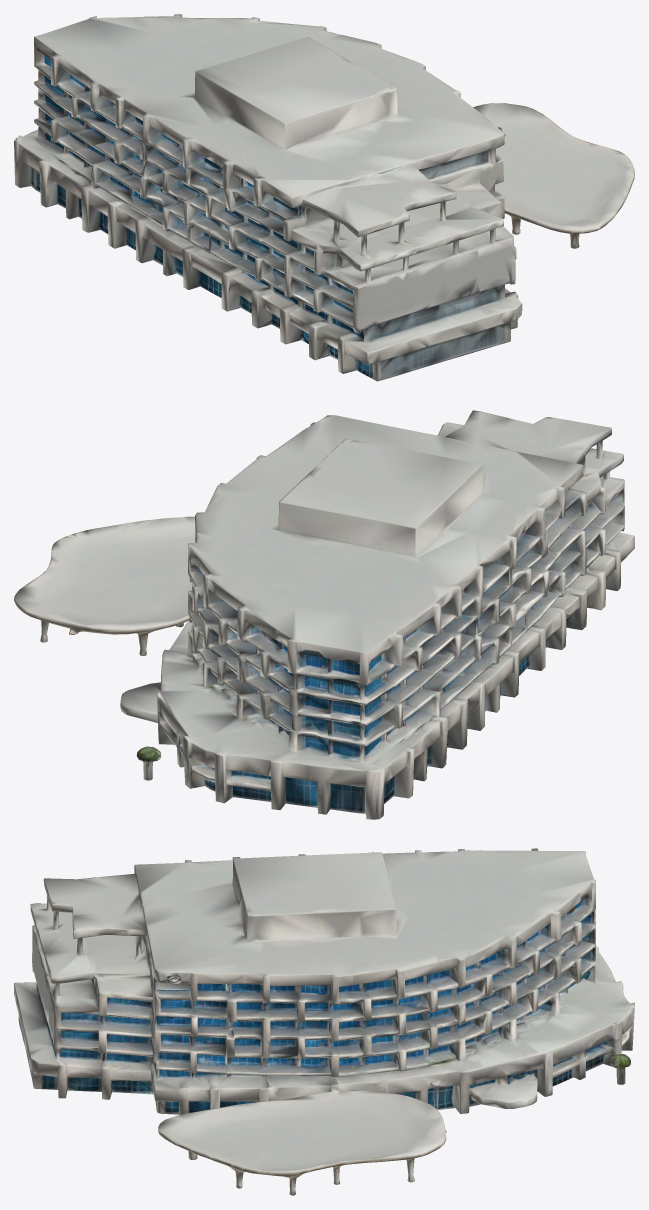
File: sofitel.glb
3 views of the same model, one above another, from view 1: azimuth 30°, elevation 25°; view 2: azimuth 150°, elevation 25°; view 3: azimuth 270°, elevation 25° (orthographic). The views are drawn at different scales.
Visible parts, largest first — view 1: tripo_node_5b8fa1ab-f364-4247-a232-32b50d5a09fc; view 2: tripo_node_5b8fa1ab-f364-4247-a232-32b50d5a09fc; view 3: tripo_node_5b8fa1ab-f364-4247-a232-32b50d5a09fc.
Boxes of the visible parts, box(x1,y1,x2,y2) form: tripo_node_5b8fa1ab-f364-4247-a232-32b50d5a09fc: box(14, 14, 634, 381); tripo_node_5b8fa1ab-f364-4247-a232-32b50d5a09fc: box(14, 410, 634, 819); tripo_node_5b8fa1ab-f364-4247-a232-32b50d5a09fc: box(14, 848, 634, 1195).
Size of the model in its own units: 0.8339 by 0.3049 by 0.9994.
Materials: 1 (1 with a texture image).
